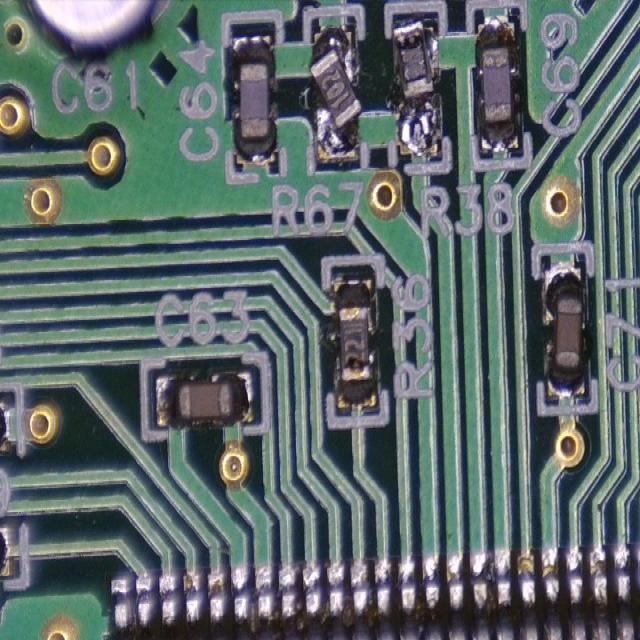Incorrect_installation: (391, 11, 442, 155), (309, 27, 363, 160), (543, 260, 585, 398)
